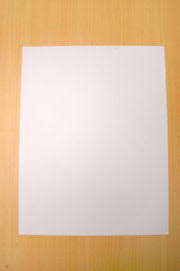crumpled paper: (14, 42, 172, 238)
